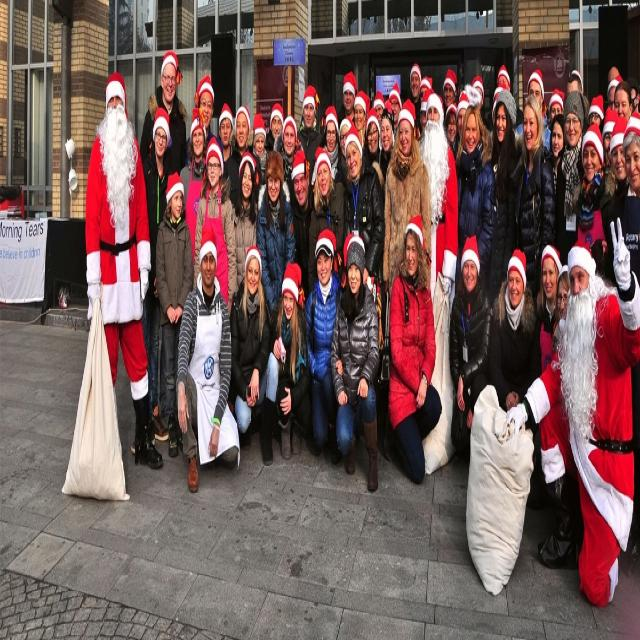body: (504, 214, 640, 612), (85, 68, 164, 476), (174, 217, 240, 481), (386, 211, 442, 494), (332, 230, 382, 496), (341, 125, 386, 389), (154, 168, 194, 455), (615, 109, 640, 568), (230, 242, 278, 467), (448, 233, 494, 465), (140, 105, 171, 444), (546, 58, 640, 169), (382, 95, 432, 302), (415, 93, 459, 321), (306, 224, 344, 466), (514, 96, 556, 304), (193, 135, 238, 320), (454, 103, 495, 295), (492, 247, 538, 413), (255, 150, 295, 340), (532, 243, 563, 479), (271, 258, 306, 464), (487, 88, 520, 306), (454, 103, 491, 297), (139, 48, 187, 191), (553, 88, 586, 270), (308, 146, 346, 294), (574, 120, 612, 261), (178, 102, 209, 266), (230, 148, 261, 300), (378, 107, 396, 364), (602, 114, 628, 288), (288, 148, 316, 304), (515, 65, 552, 153), (185, 72, 218, 167), (548, 110, 567, 266), (217, 102, 243, 212), (296, 82, 322, 183), (273, 115, 305, 190), (456, 64, 514, 104), (363, 103, 387, 184), (318, 103, 341, 183), (553, 262, 571, 344), (250, 112, 268, 185), (408, 62, 422, 144), (338, 69, 358, 126), (352, 88, 370, 147), (265, 102, 284, 153), (234, 104, 251, 157), (388, 80, 403, 126), (442, 66, 458, 109), (444, 102, 458, 150), (337, 115, 355, 152), (421, 67, 432, 114), (372, 90, 386, 125)
